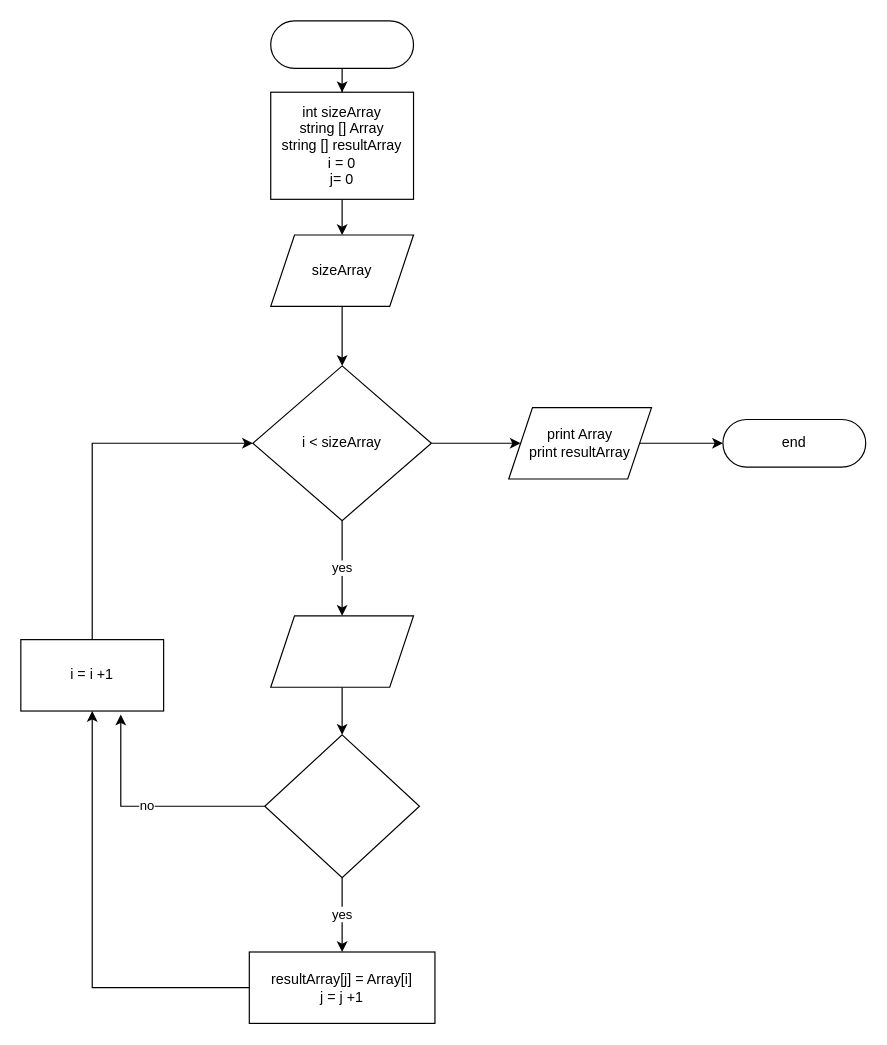
Some shapes in this 887 by 1045 pixel diagram are drawn without their labels. The box of each missing label's shape, as (x1, y1, x2, y2) in pixels:
Array[i]: (270, 615, 414, 687)
Array[i].lenght <= 3: (264, 734, 419, 878)
Start: (270, 20, 414, 68)
